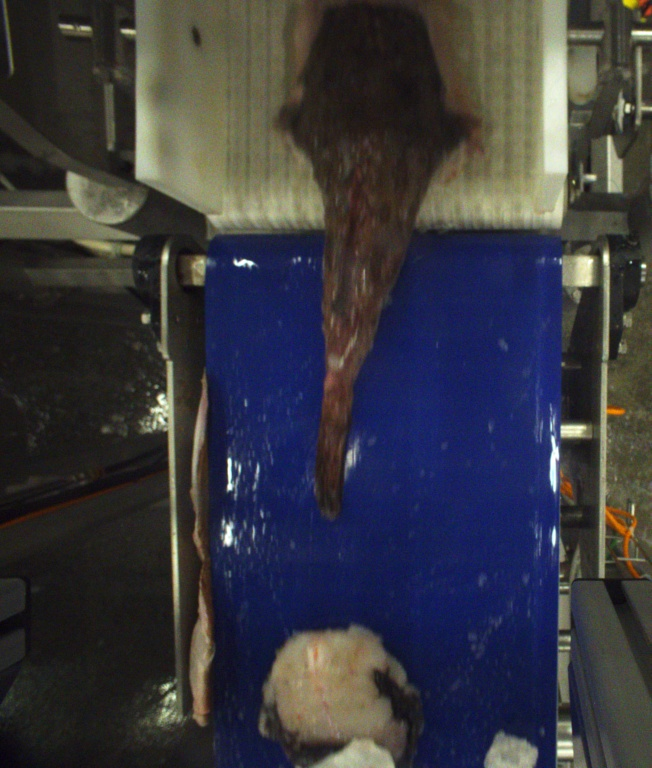ANF: (259, 618, 422, 768)
